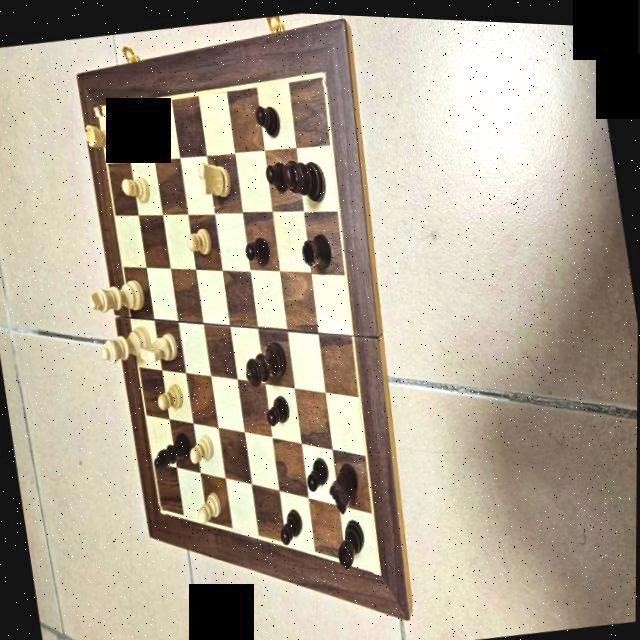chess-table-corners: (314, 62, 331, 84), (372, 560, 387, 574), (92, 102, 102, 115), (156, 502, 166, 514)
